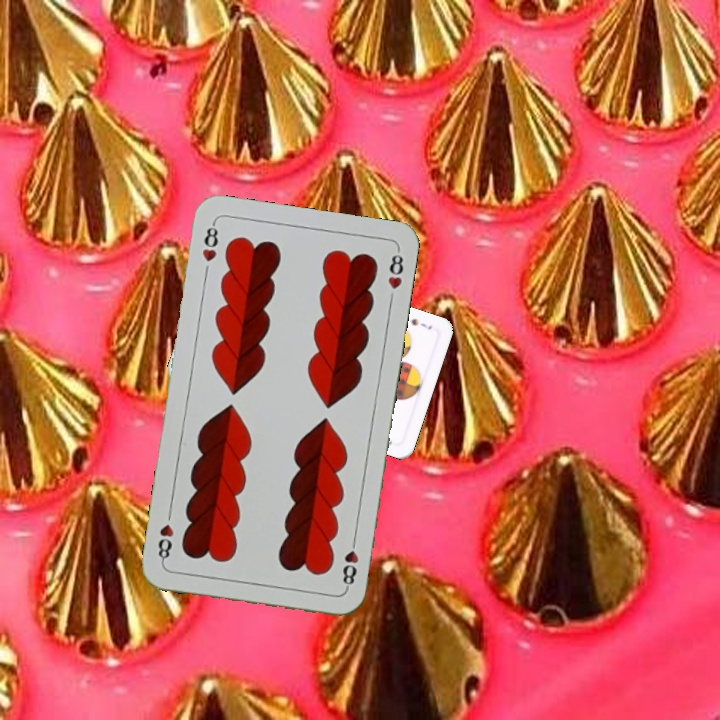H8: (338, 533, 361, 592), (198, 218, 221, 265)
S7: (407, 314, 435, 332)
